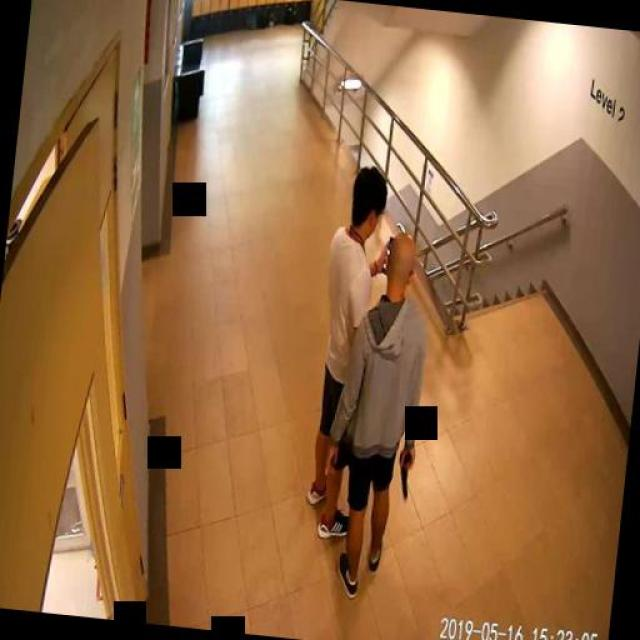gun: (394, 448, 415, 498)
